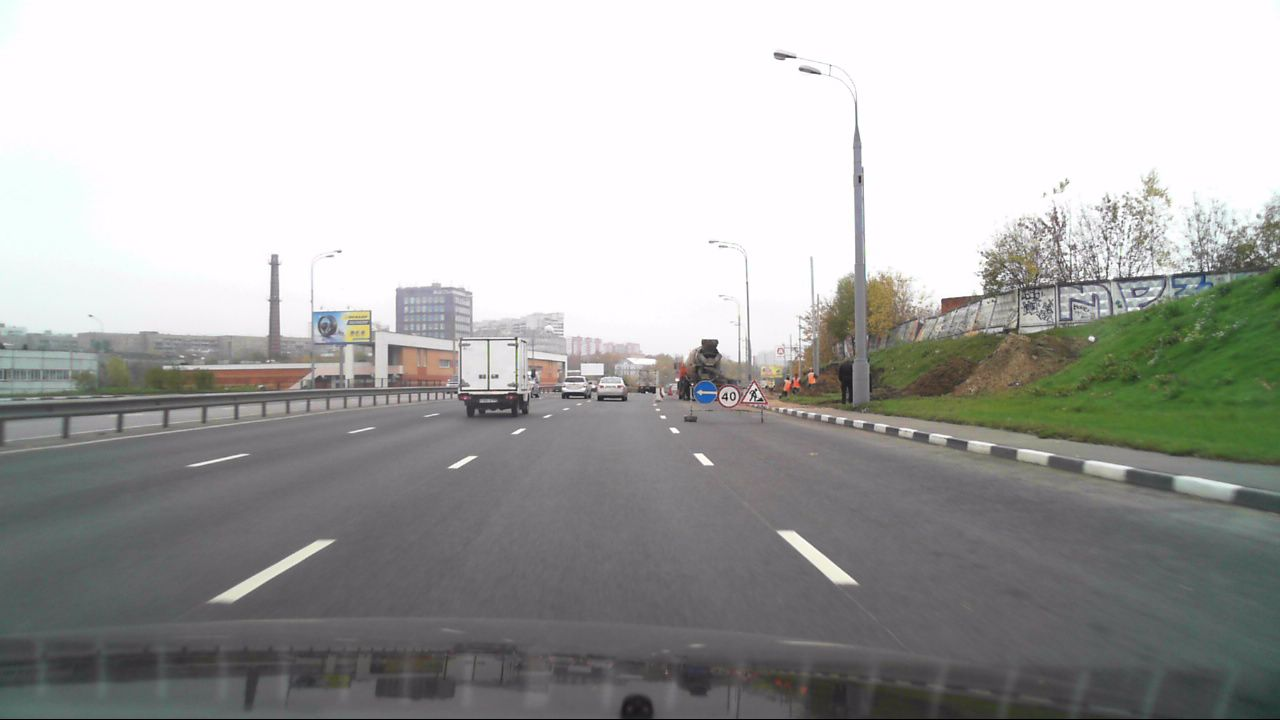Turn Left: (694, 380, 718, 404)
speed_warning_40: (717, 384, 740, 407)
